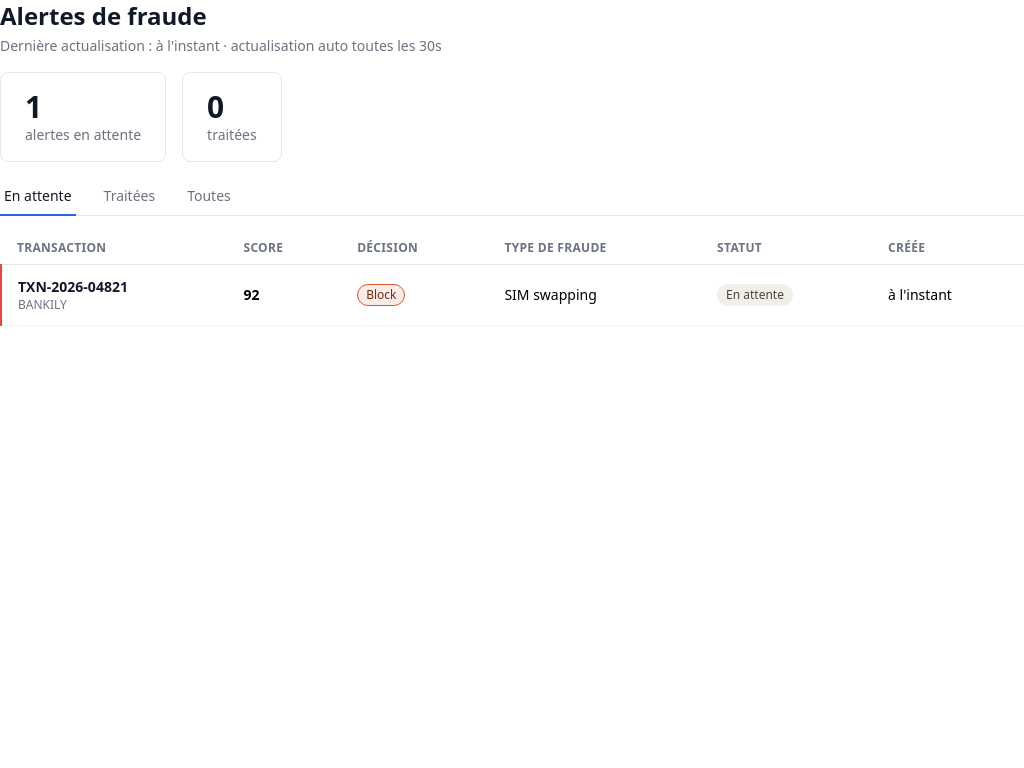
Test: AlertsPage — intégration AlertList + AlertDetailPanel › le clic sur une ligne d'AlertList ouvre réellement AlertDetailPanel avec la bonne alerte
Click the text "TXN-2026-04821" at [73, 286], box [18,277,128,296]
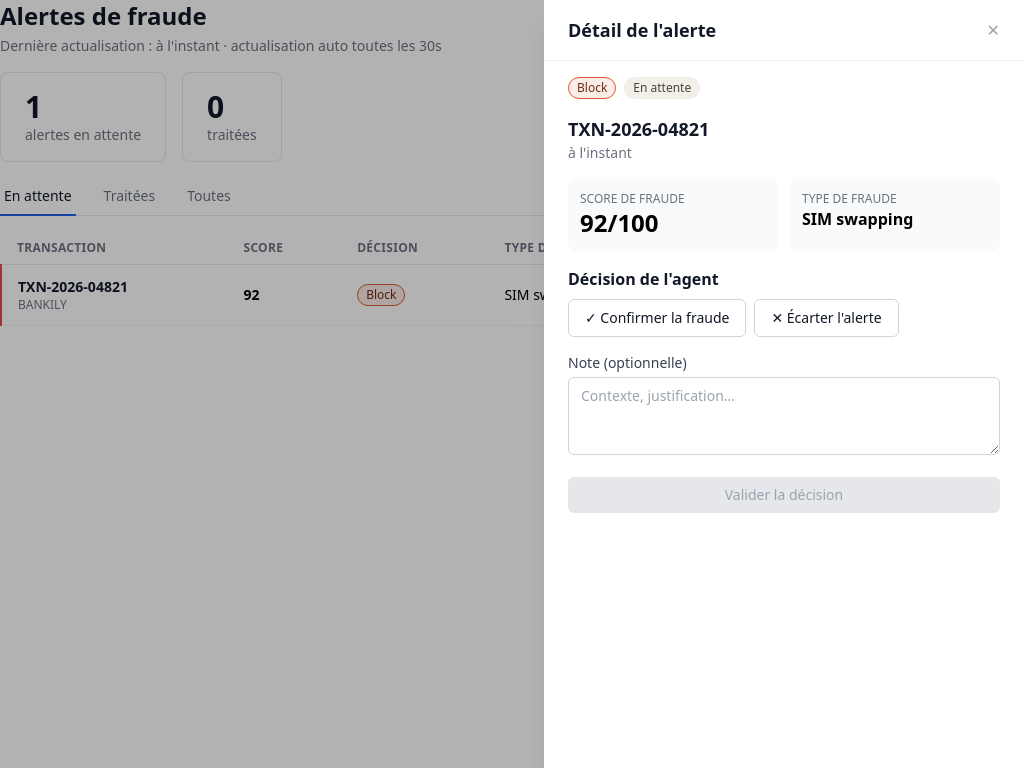
Expected: the dialog "Détail de l'alerte" is shown, [544,0,1023,767]
Expected: the text "TXN-2026-04821" is shown 2 times, [18,277,128,296]; [568,117,709,141]
